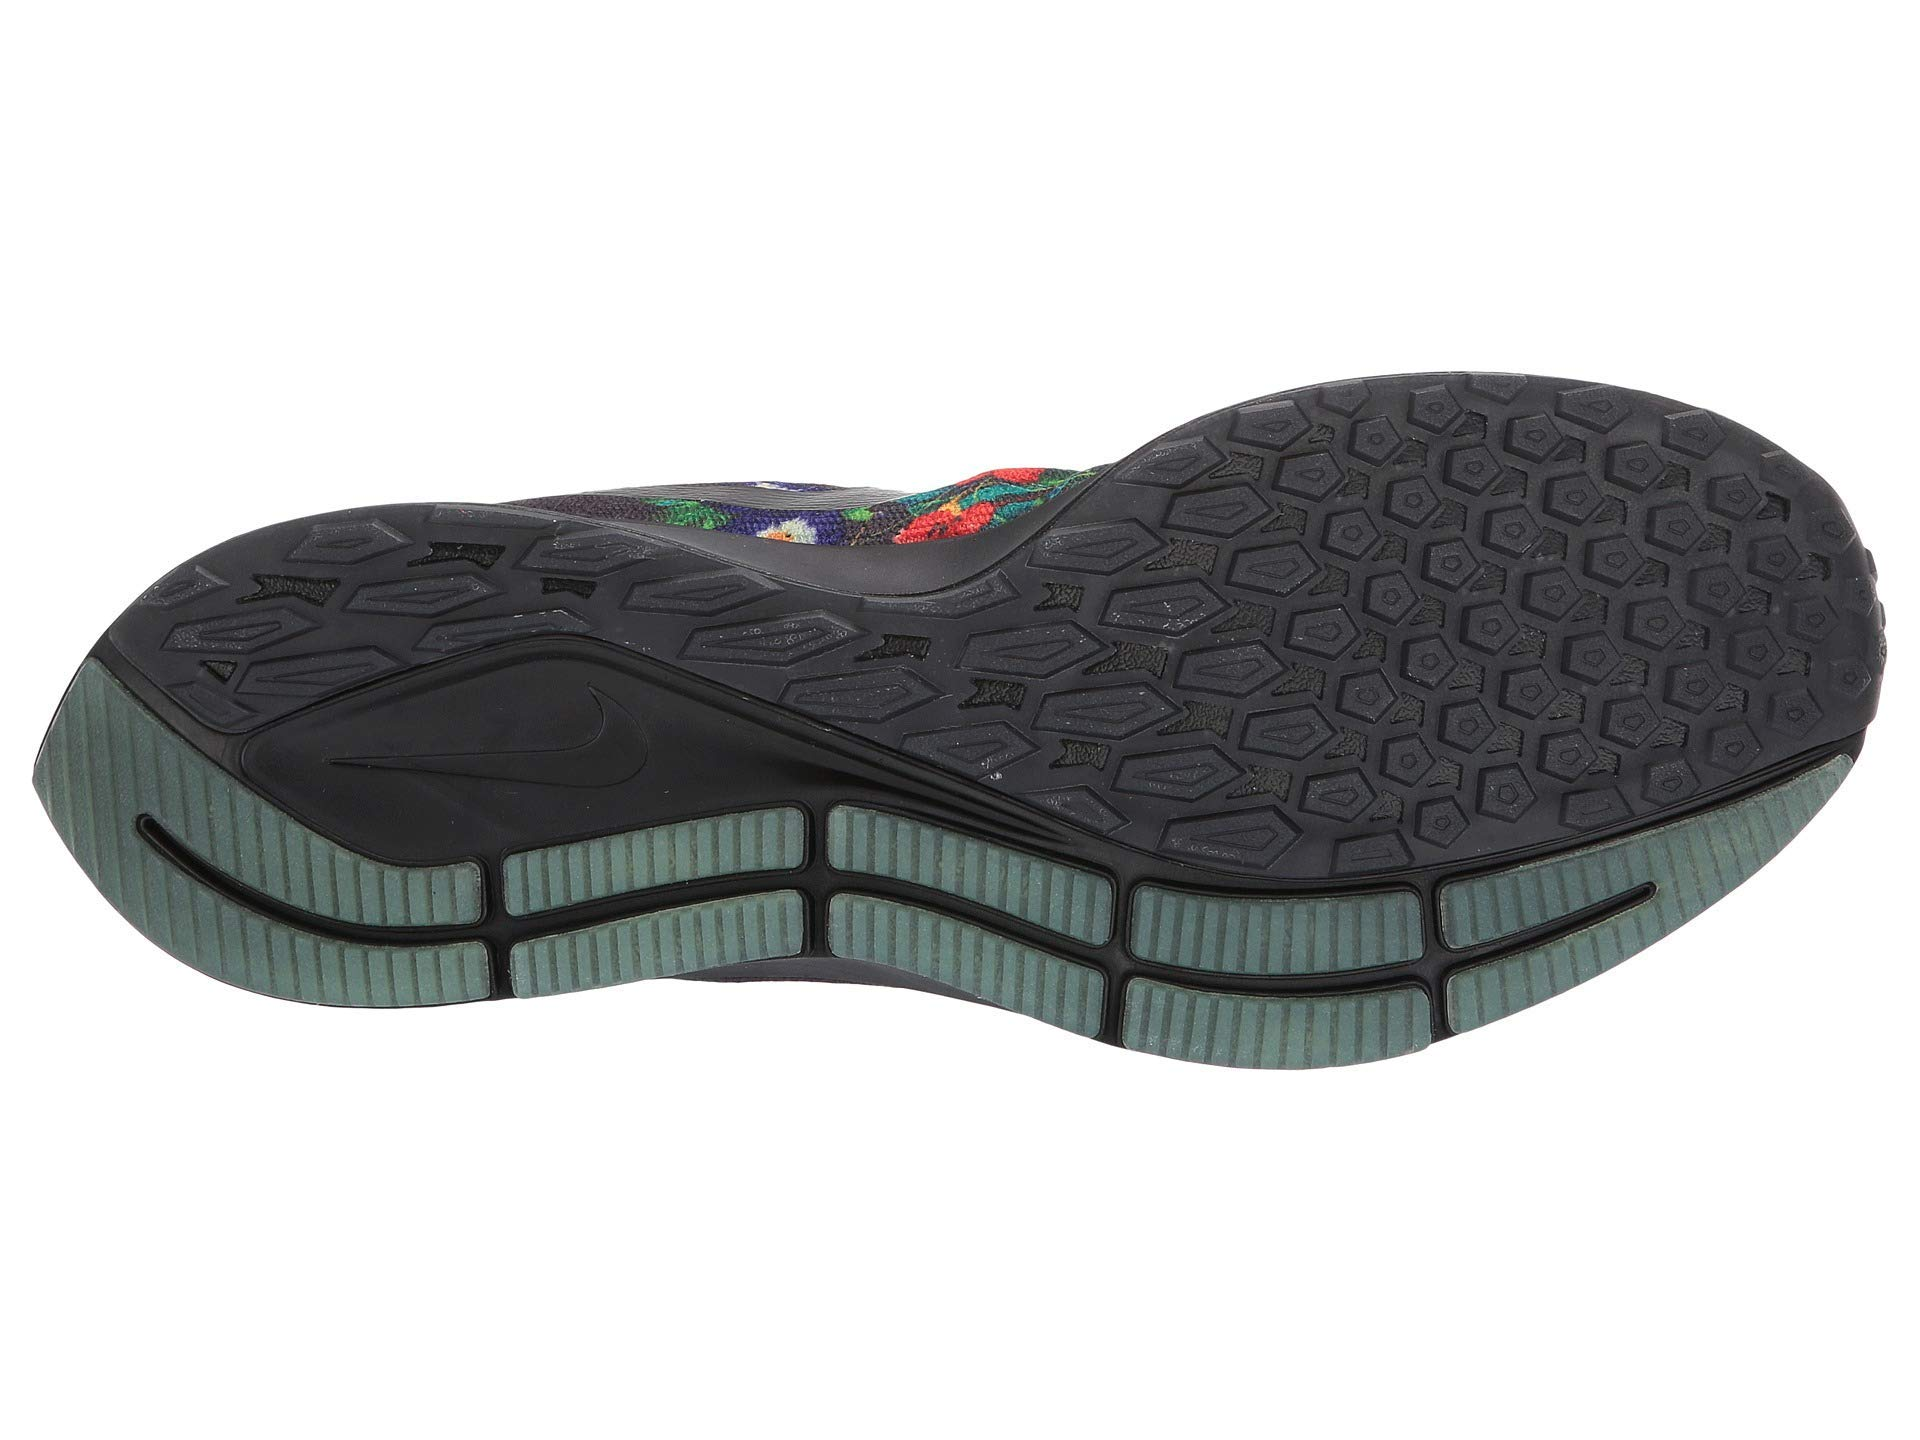polygon: (1277, 442, 1671, 812), (178, 558, 440, 823)
quad: (815, 777, 1063, 1063)
